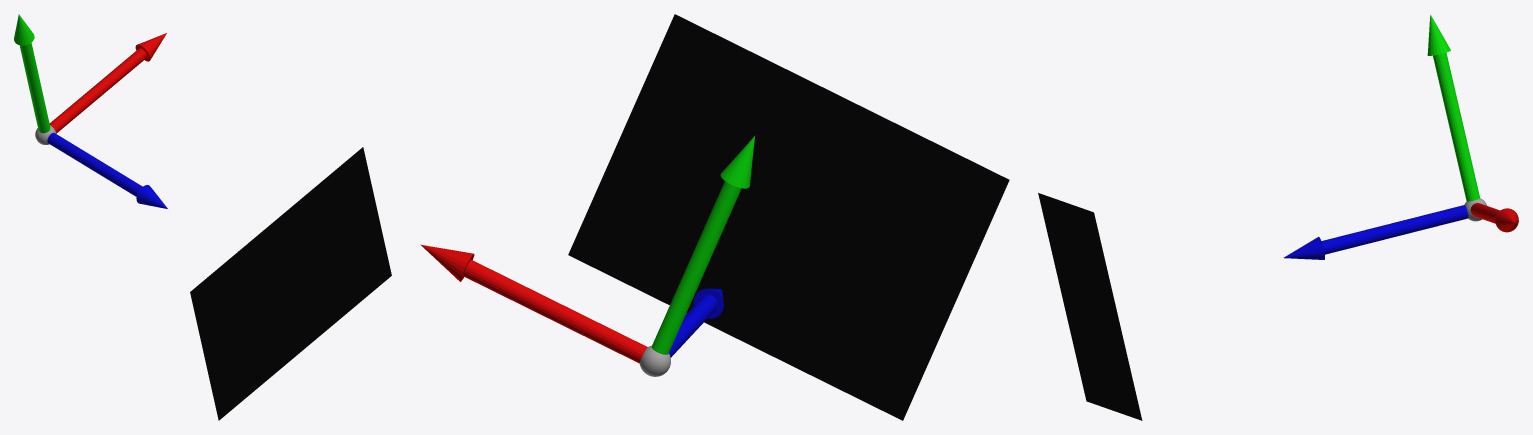
3 renders of one model, left to right at view 1: azimuth 30°, elevation 25°; view 2: azimuth 150°, elevation 25°; view 3: azimuth 270°, elevation 25°, orthographic. The views are drawn at different scales.
Size of the model in its own units: 0.2053 by 0.2451 by 0.2978.
